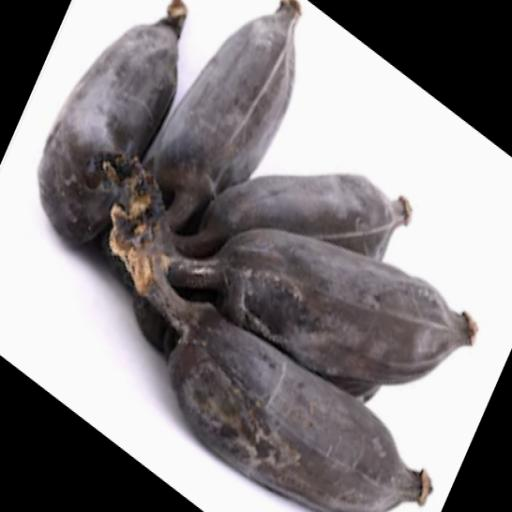banana-overripe: (29, 0, 497, 512)
